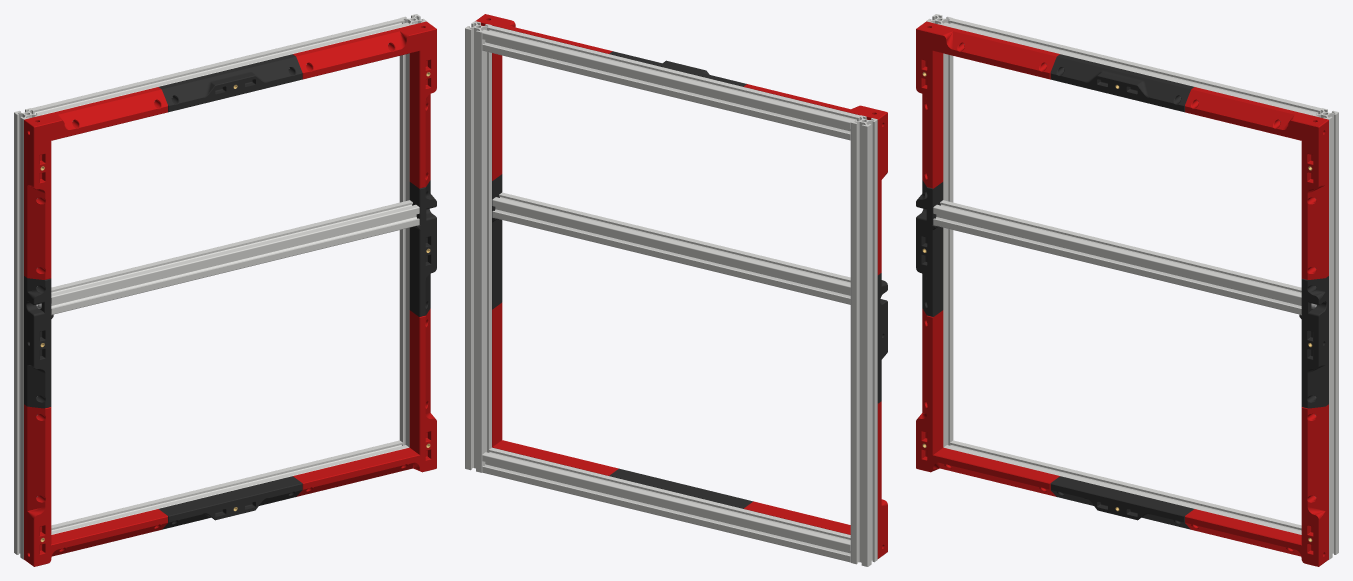
File: Door_Buffer_LDO.glb
3 views of the same model, side by side, from view 1: azimuth 30°, elevation 25°; view 2: azimuth 150°, elevation 25°; view 3: azimuth 330°, elevation 25° (orthographic).
Visible parts, largest first — view 1: Crossbar, Top Left, Top Right, Bottom Left, Bottom Right, Frame, Frame001, Top Mid, Frame002, Frame003, Left Mid, Bottom Mid (+1 smaller); view 2: Frame, Frame001, Frame002, Frame003, Crossbar, Bottom Right, Bottom Left, Top Right, Top Left, Bottom Mid, Right Mid, Left Mid (+1 smaller); view 3: Crossbar, Top Right, Top Left, Bottom Right, Bottom Left, Frame001, Frame, Top Mid, Frame002, Frame003, Right Mid, Bottom Mid (+1 smaller).
Boxes of the visible parts, box(x1,y1,x2,y2) form: Crossbar: box(51, 200, 419, 314); Top Left: box(24, 87, 167, 279); Top Right: box(293, 21, 436, 188); Bottom Left: box(24, 404, 167, 566); Bottom Right: box(293, 308, 436, 496); Frame: box(14, 108, 40, 559); Frame001: box(399, 14, 426, 447); Top Mid: box(159, 54, 302, 112); Frame002: box(32, 18, 408, 115); Frame003: box(51, 440, 408, 534); Left Mid: box(24, 276, 53, 408); Bottom Mid: box(159, 476, 302, 529); Frame: box(850, 115, 877, 566); Frame001: box(465, 21, 491, 472); Frame002: box(482, 25, 859, 140); Frame003: box(482, 447, 850, 562); Crossbar: box(492, 192, 850, 304); Bottom Right: box(492, 302, 618, 475); Bottom Left: box(743, 401, 887, 558); Top Right: box(475, 14, 612, 180); Top Left: box(743, 84, 887, 274); Bottom Mid: box(609, 468, 752, 508); Right Mid: box(492, 174, 502, 309); Left Mid: box(877, 273, 887, 403); Crossbar: box(933, 200, 1301, 314); Top Right: box(1185, 87, 1328, 279); Top Left: box(916, 21, 1059, 188); Bottom Right: box(1185, 404, 1328, 566); Bottom Left: box(916, 308, 1059, 496); Frame001: box(1312, 108, 1338, 559); Frame: box(926, 14, 953, 447); Top Mid: box(1050, 54, 1193, 112); Frame002: box(944, 18, 1320, 115); Frame003: box(944, 440, 1301, 534); Right Mid: box(1299, 276, 1328, 408); Bottom Mid: box(1050, 476, 1193, 529).
Bounding box in the file's own units: 0.46 × 0.48 × 0.04.
